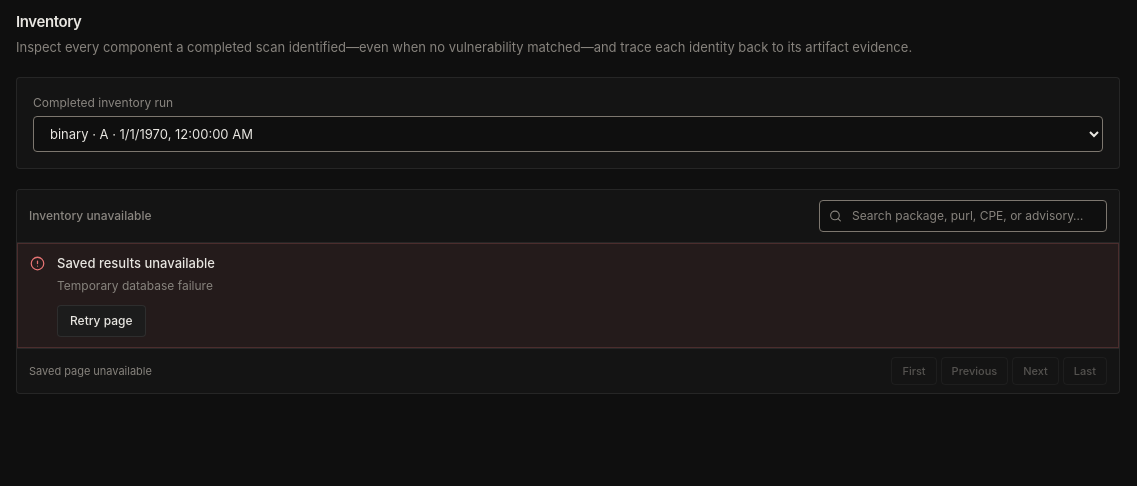
Test: a failed component page can be retried without losing the selected run
Expected: the text "Temporary database failure" is shown, left=57, top=278, right=213, bottom=292
Click the button "Retry page": (101, 321) left=57, top=305, right=146, bottom=337
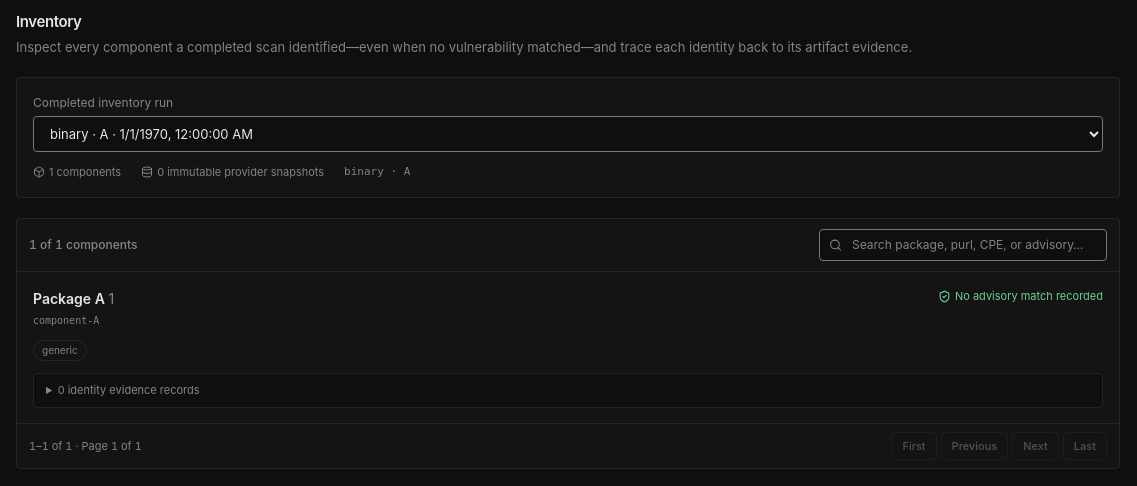
Expected: the dropdown labelled "Completed inventory run" shows "binary · A · 1/1/1970, 12:00:00 AM", left=33, top=116, right=1103, bottom=152
Result: the heading "Package A 1" is shown at left=33, top=288, right=114, bottom=308
